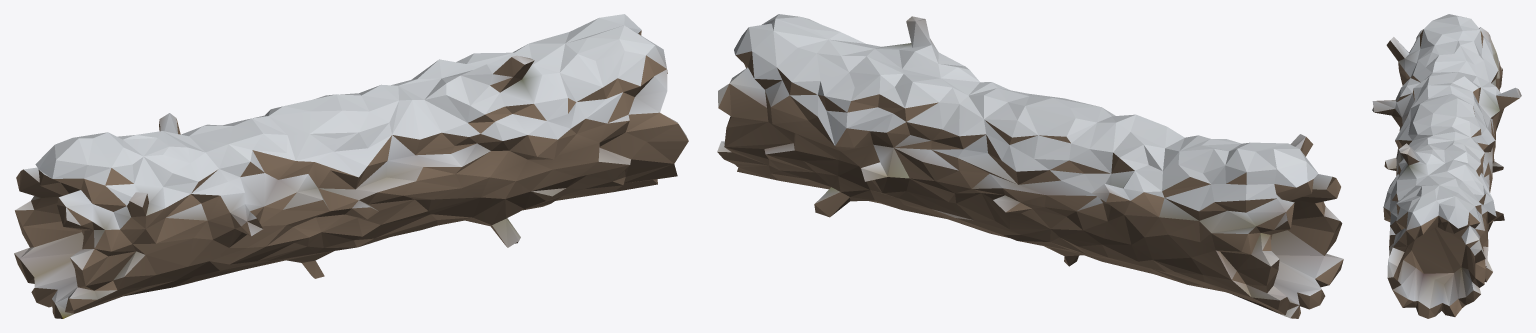
Rendered from gen-log-2.glb.
The picture shows the model from 3 angles, left to right: view 1: azimuth 30°, elevation 25°; view 2: azimuth 150°, elevation 25°; view 3: azimuth 270°, elevation 25°; orthographic projection. The views are drawn at different scales.
Visible parts, largest first — view 1: model; view 2: model; view 3: model.
Part boxes in pixels (x1,y1,x2,y2): model: (14, 14, 688, 318); model: (717, 14, 1343, 318); model: (1372, 14, 1521, 318).
Size of the model in its own units: 2.75 by 0.85 by 0.85.
